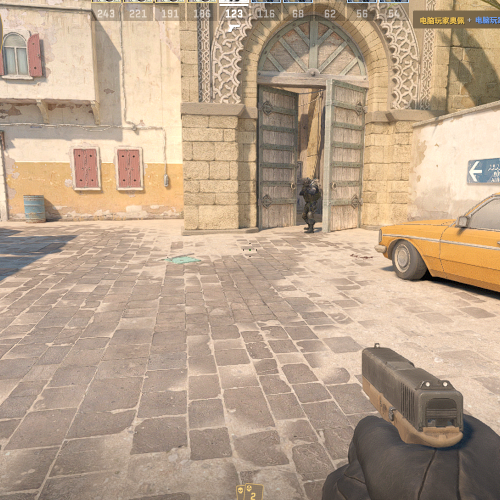ct_body: (299, 176, 321, 234)
ct_head: (303, 177, 312, 188)
